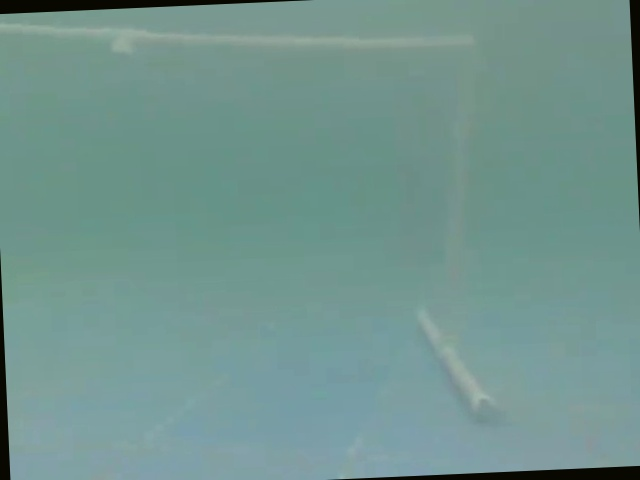gate: (3, 8, 531, 442)
